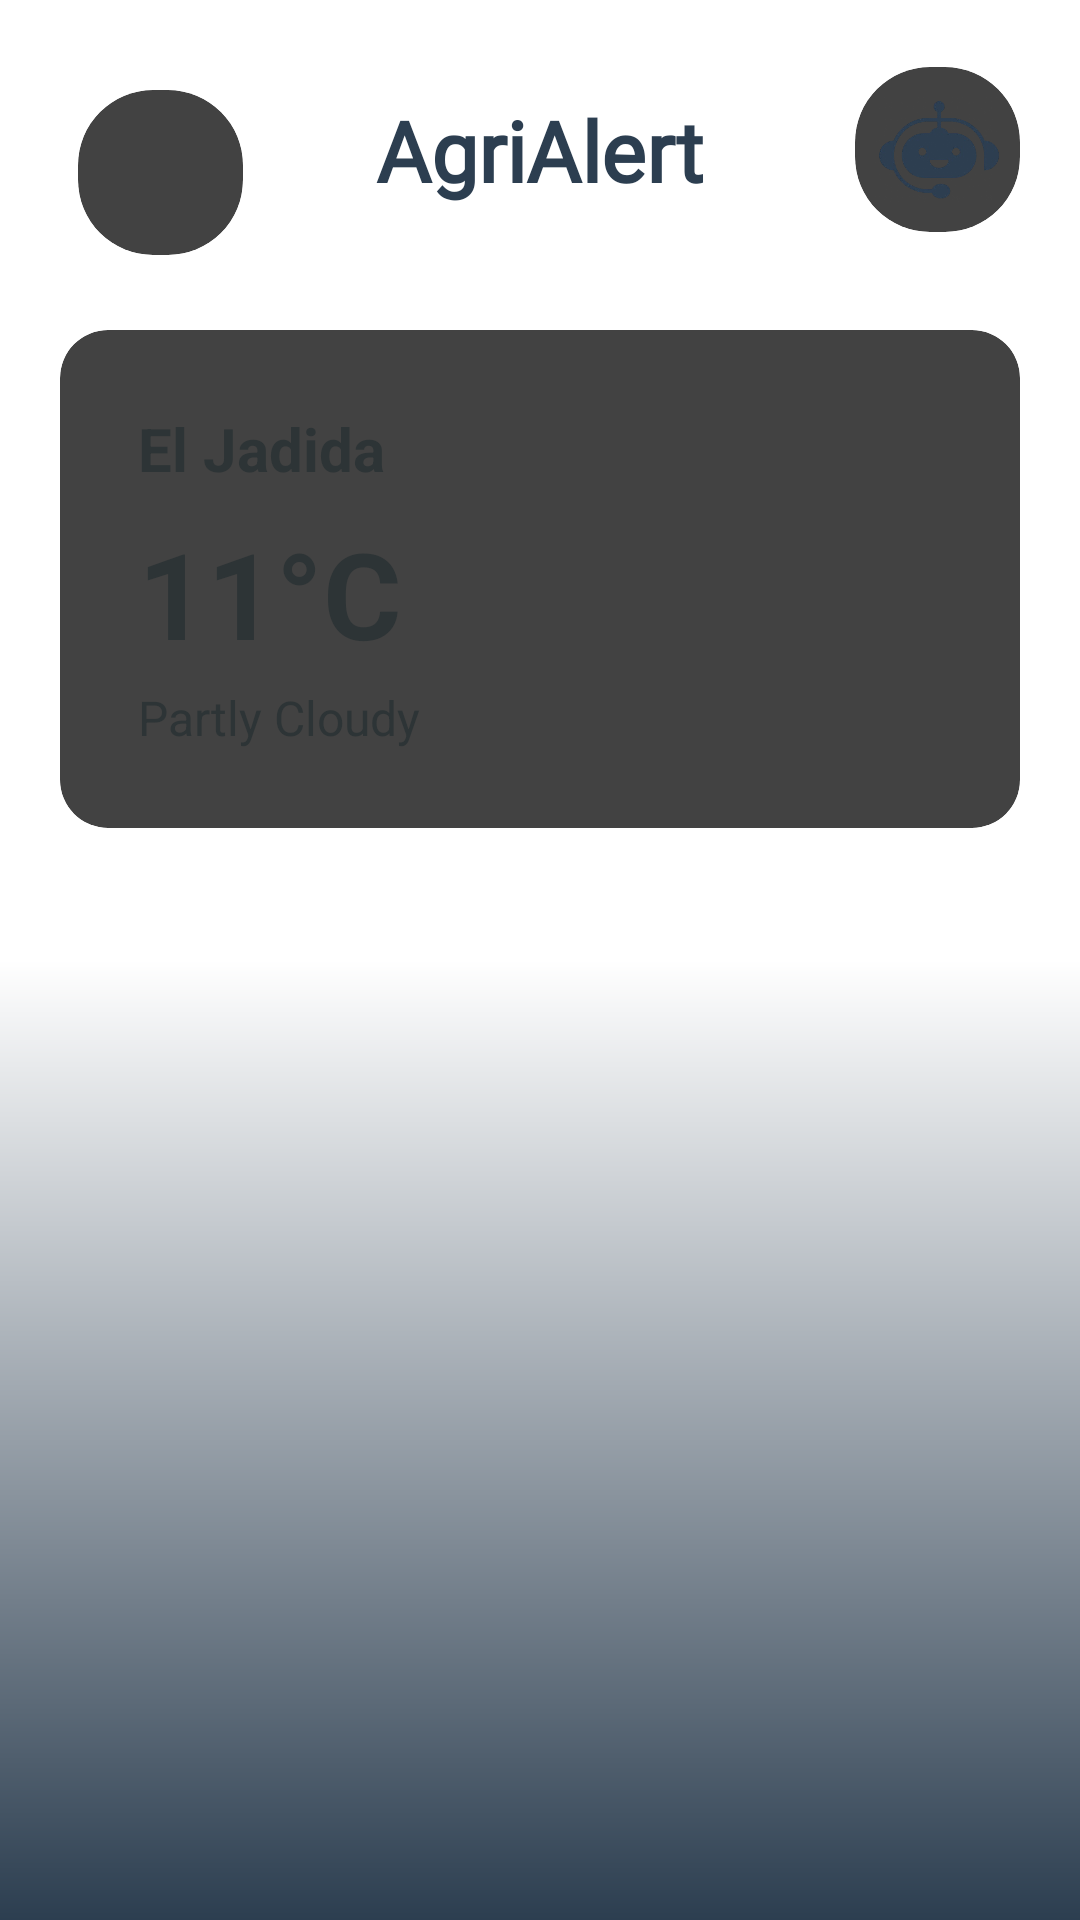

Locate icon controls on the screen. Image size 1080w x 1920h, boxes as (left=x1, top=y1, right=x2, bottom=y2).
Chatbot Icon: (left=855, top=67, right=1020, bottom=232)
